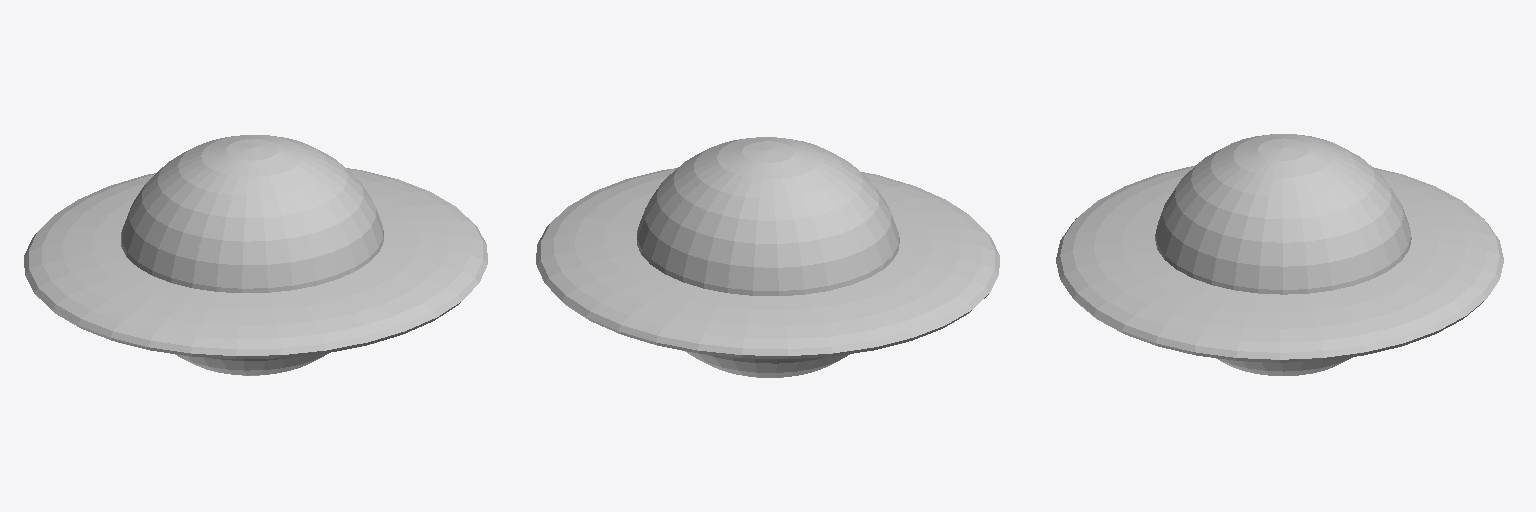
The model's file is KIEnemy.obj.
3 renders of one model, left to right at view 1: azimuth 30°, elevation 25°; view 2: azimuth 150°, elevation 25°; view 3: azimuth 270°, elevation 25°, orthographic.
Visible parts, largest first — view 1: KIEnemy_Sphere.001; view 2: KIEnemy_Sphere.001; view 3: KIEnemy_Sphere.001.
Part boxes in pixels (x1,y1,x2,y2): KIEnemy_Sphere.001: (24, 135, 487, 375); KIEnemy_Sphere.001: (536, 137, 999, 377); KIEnemy_Sphere.001: (1056, 134, 1503, 375).
Bounding box in the file's own units: 3.46 × 1.75 × 3.3.